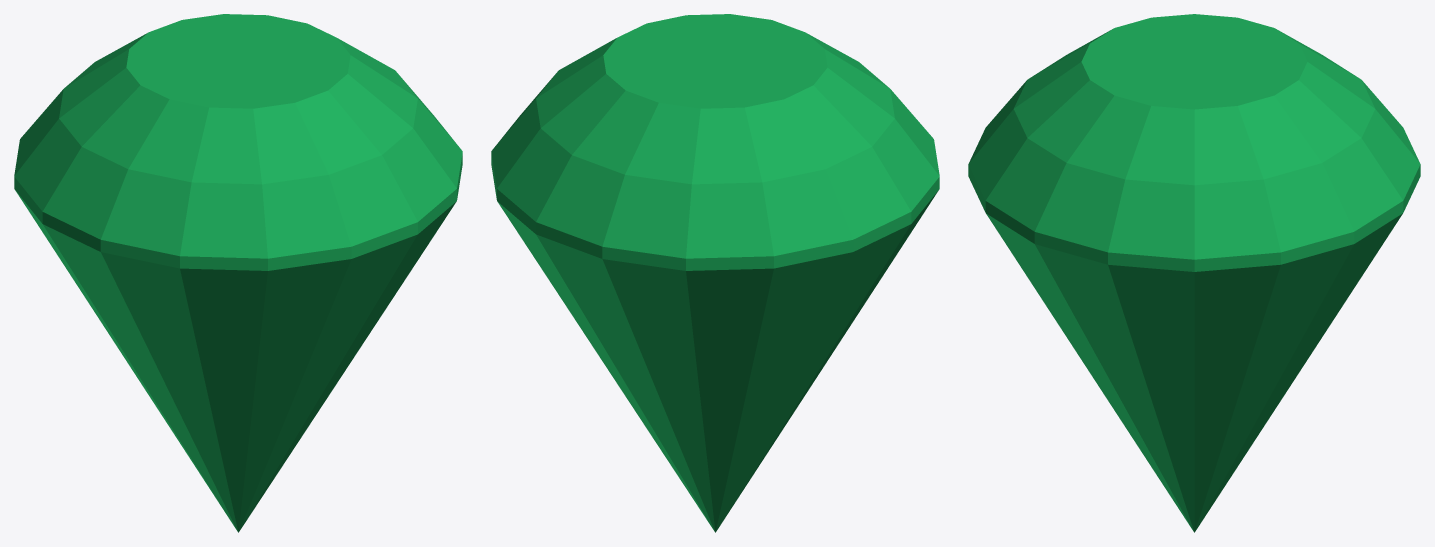
File: SM_Emerald_Perfect.fbx
3 renders of one model, left to right at view 1: azimuth 30°, elevation 25°; view 2: azimuth 150°, elevation 25°; view 3: azimuth 270°, elevation 25°, orthographic.
Visible parts, largest first — view 1: SM_Emerald_Perfect; view 2: SM_Emerald_Perfect; view 3: SM_Emerald_Perfect.
Part boxes in pixels (x1,y1,x2,y2): SM_Emerald_Perfect: [14, 14, 462, 532]; SM_Emerald_Perfect: [491, 14, 939, 532]; SM_Emerald_Perfect: [968, 14, 1420, 532].
Size of the model in its own units: 20 by 20 by 23.
